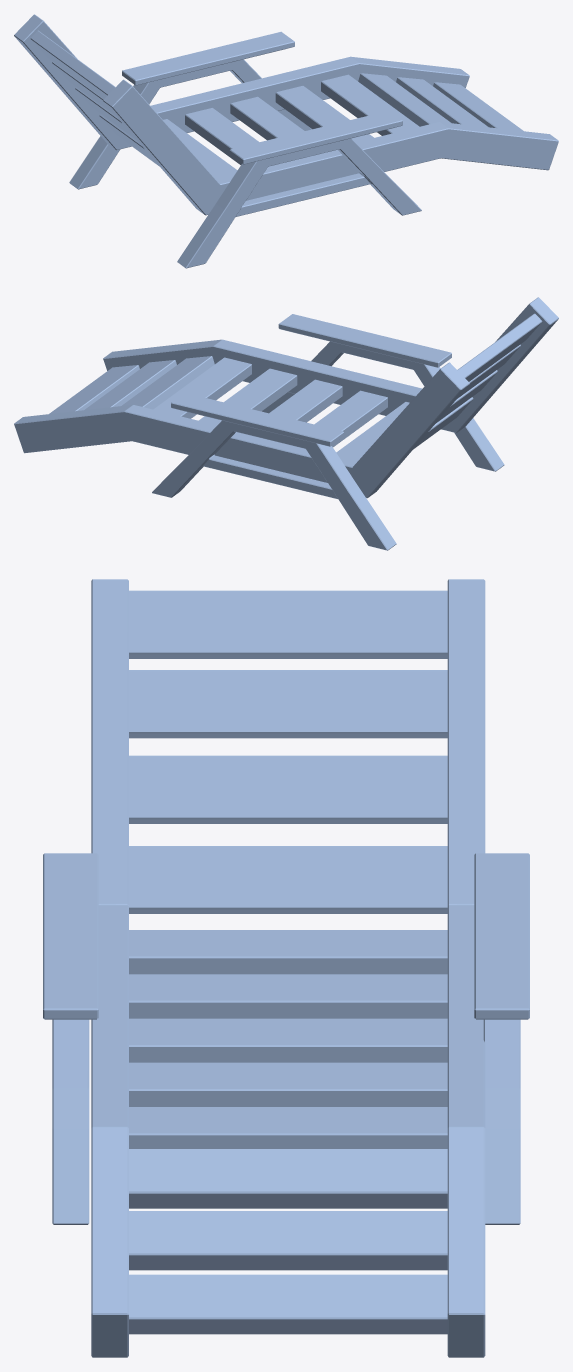
The model's file is beach chair.fbx.
3 views of the same model, one above another, from view 1: azimuth 30°, elevation 25°; view 2: azimuth 150°, elevation 25°; view 3: azimuth 270°, elevation 25° (orthographic). The views are drawn at different scales.
Visible parts, largest first — view 1: polySurface13; view 2: polySurface13; view 3: polySurface13.
Part boxes in pixels (x1,y1,x2,y2): polySurface13: [14, 14, 558, 268]; polySurface13: [14, 297, 558, 550]; polySurface13: [43, 579, 529, 1357].
Bounding box in the file's own units: 17.96 × 7.15 × 8.47.
